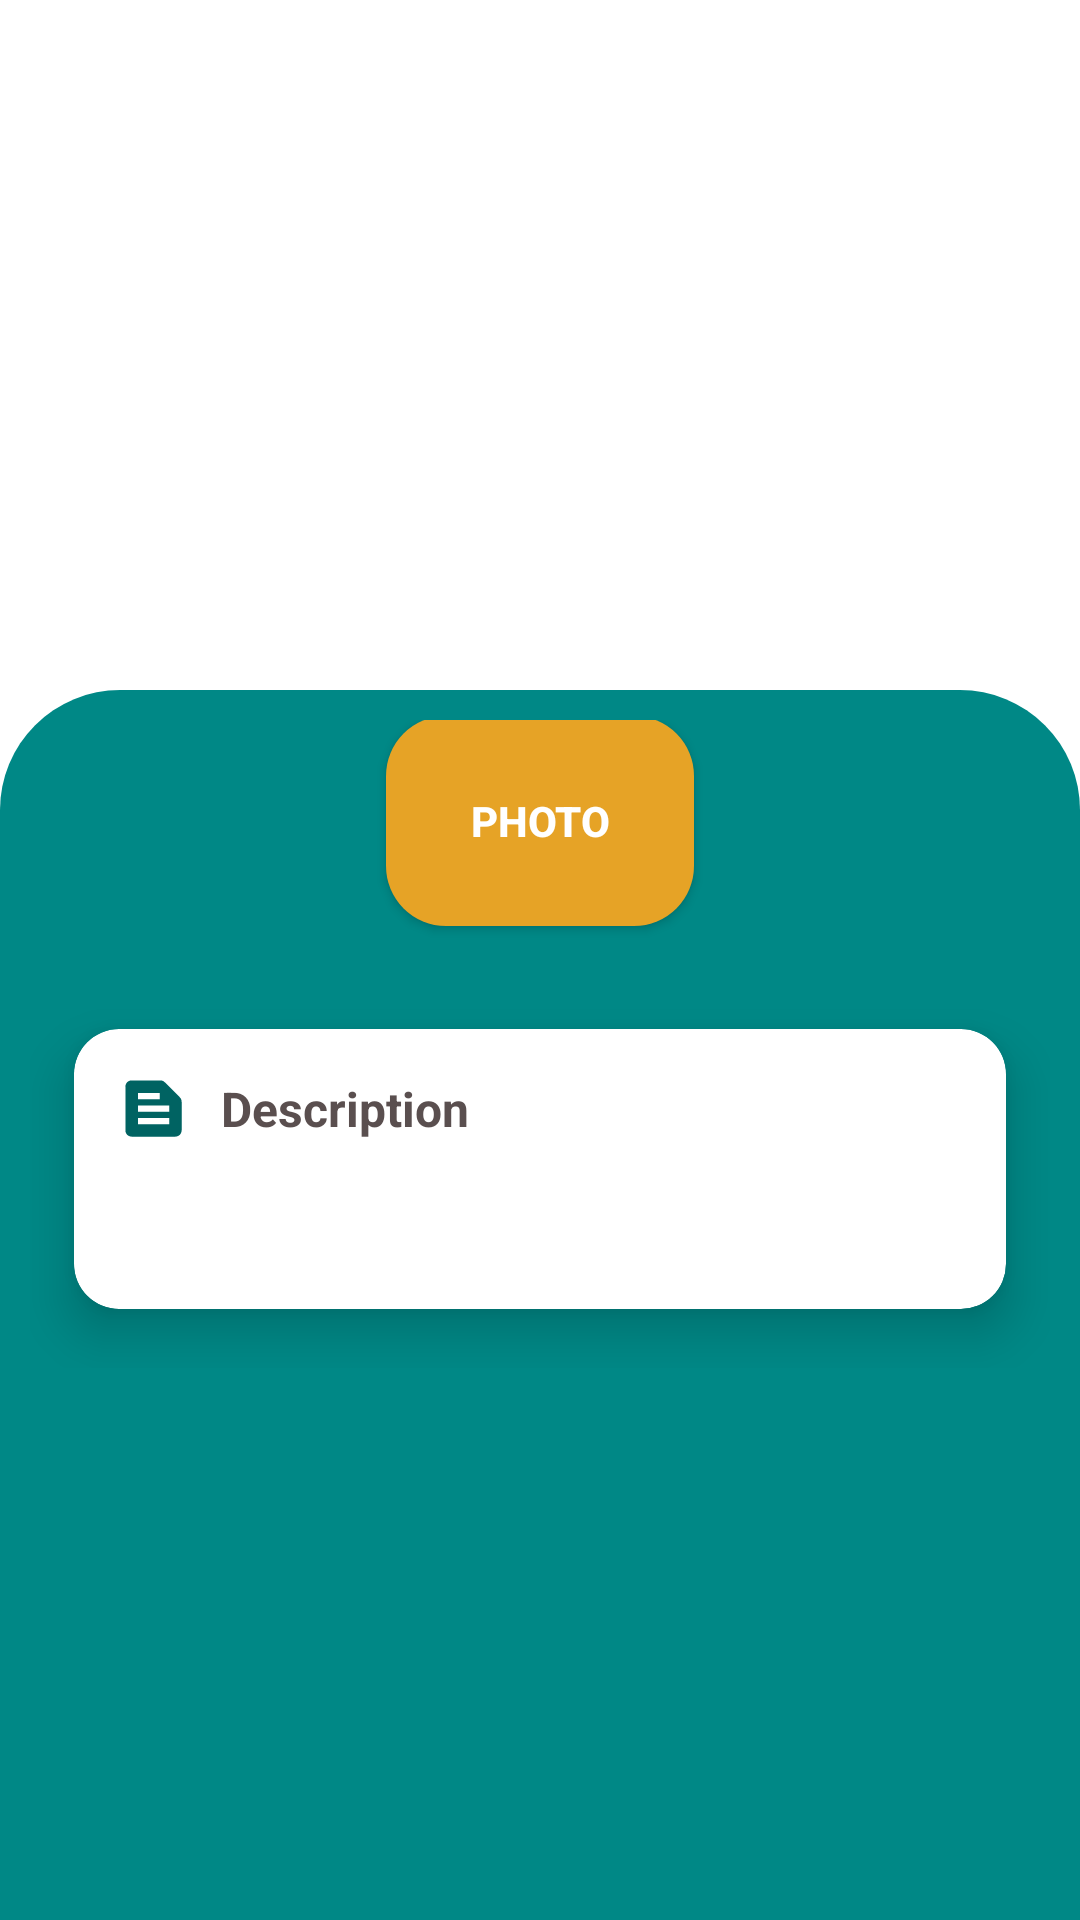

Icons on this 1080px x 1920px Android screen, each with its box as (x1, y1, x2, y2):
text snippet: (125, 1080, 182, 1137)
